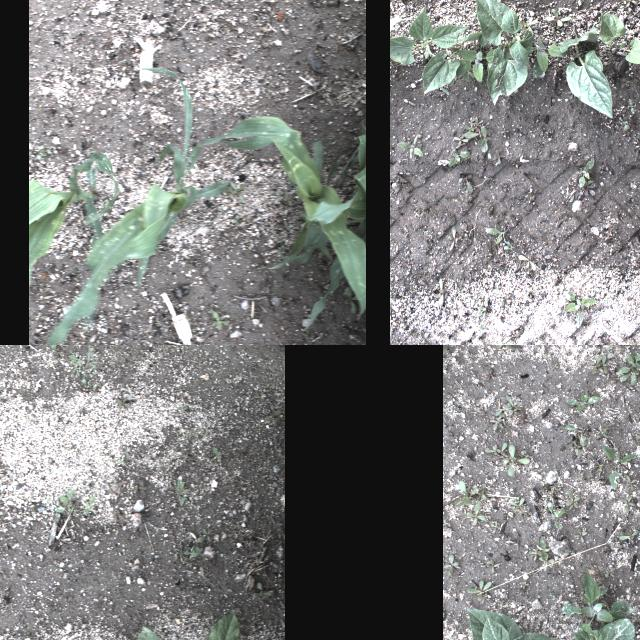crop: (43, 66, 244, 345), (185, 116, 365, 337), (29, 150, 120, 288), (472, 0, 533, 103), (559, 24, 611, 118), (390, 5, 470, 64), (421, 31, 483, 93), (448, 607, 560, 640), (599, 13, 640, 63), (558, 617, 634, 640), (200, 610, 239, 640), (133, 623, 164, 640), (390, 4, 400, 46)
weed: (561, 572, 635, 638), (454, 27, 502, 82), (524, 37, 566, 77), (601, 444, 635, 488), (562, 290, 596, 326), (502, 444, 530, 476), (452, 479, 478, 509), (540, 499, 566, 529), (396, 132, 422, 158), (54, 487, 78, 515), (566, 390, 598, 410), (616, 349, 640, 373), (466, 578, 490, 600), (565, 422, 587, 446), (485, 228, 511, 248), (578, 156, 594, 188), (342, 278, 356, 314), (448, 144, 470, 166), (466, 502, 486, 524), (546, 8, 570, 26), (620, 362, 638, 386), (476, 125, 490, 153), (175, 480, 189, 506), (210, 310, 228, 330), (617, 527, 639, 543), (488, 412, 504, 432), (465, 115, 483, 132), (82, 496, 98, 514), (508, 496, 526, 512), (620, 494, 636, 512), (502, 328, 522, 342), (458, 173, 472, 193), (183, 546, 203, 560), (444, 554, 458, 574), (564, 490, 578, 510), (34, 144, 51, 160), (587, 353, 601, 372), (539, 536, 549, 562), (518, 254, 534, 270), (504, 396, 522, 410), (494, 440, 508, 456), (493, 402, 509, 416), (477, 298, 488, 318), (270, 188, 284, 202), (197, 528, 211, 542), (486, 558, 500, 572), (538, 556, 552, 570), (573, 528, 587, 542), (446, 226, 454, 250), (584, 180, 596, 196), (452, 133, 468, 145), (600, 353, 610, 372), (478, 585, 488, 603), (586, 364, 604, 374), (493, 149, 505, 163), (604, 564, 616, 578), (521, 16, 537, 26), (624, 475, 634, 491), (483, 444, 499, 454), (485, 366, 495, 382), (116, 397, 130, 408), (528, 550, 542, 560), (630, 430, 640, 444), (597, 427, 609, 438), (212, 446, 222, 459), (572, 440, 580, 456), (500, 294, 510, 306), (490, 520, 500, 532), (438, 278, 442, 306), (476, 488, 486, 499), (496, 345, 514, 351), (594, 460, 604, 470), (518, 413, 528, 423), (285, 192, 293, 204), (628, 98, 634, 114), (464, 132, 480, 138), (49, 345, 68, 350), (513, 339, 528, 345), (518, 580, 528, 588), (506, 406, 516, 414), (623, 0, 636, 6), (551, 486, 559, 494), (550, 362, 558, 370), (633, 412, 640, 421), (232, 213, 238, 223), (442, 518, 448, 528), (582, 430, 588, 440), (38, 294, 46, 300), (622, 120, 628, 128), (611, 544, 623, 548), (468, 352, 474, 360), (637, 354, 640, 368), (518, 454, 528, 458), (217, 205, 223, 211), (515, 462, 521, 468), (590, 602, 606, 604), (514, 494, 518, 502), (442, 346, 446, 354), (478, 410, 486, 414)
